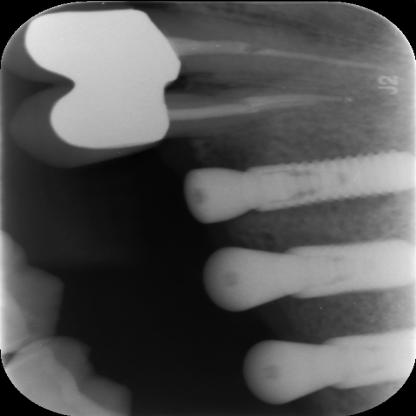ITI: (247, 147, 415, 216), (290, 234, 413, 304), (321, 326, 416, 393)
